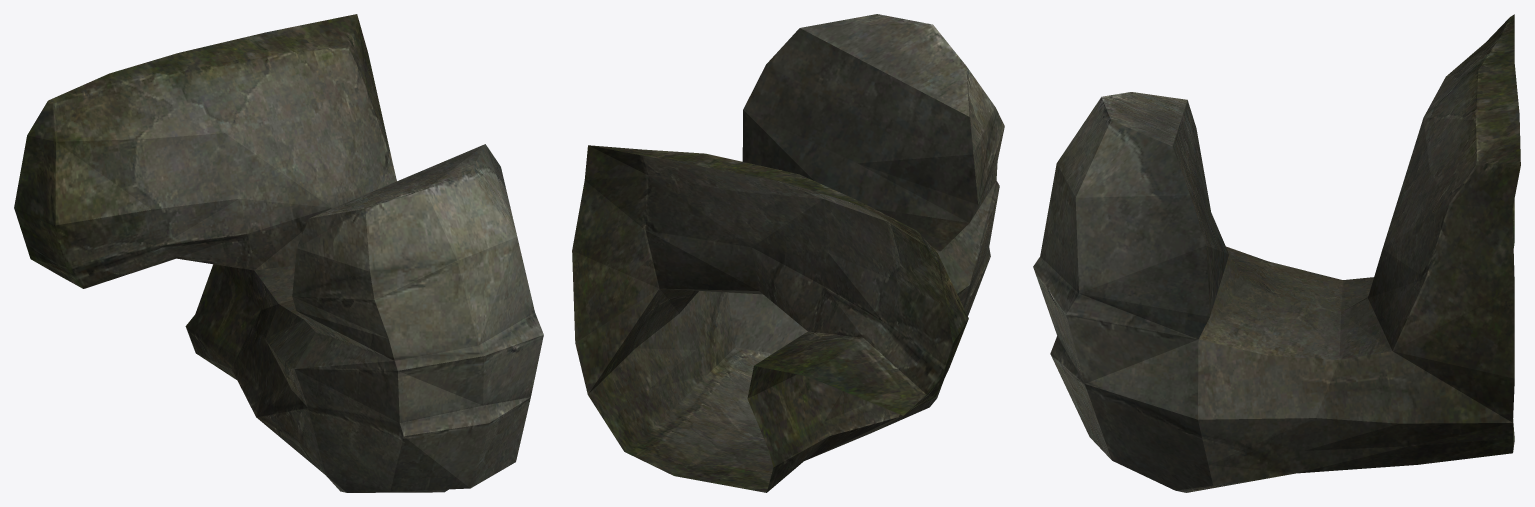
File: dongfang_yewai_358_shizhu01a.obj
3 renders of one model, left to right at view 1: azimuth 30°, elevation 25°; view 2: azimuth 150°, elevation 25°; view 3: azimuth 270°, elevation 25°, orthographic. The views are drawn at different scales.
Parts seen in each view (by area): view 1: dongfang_yewai_358_shizhu01a; view 2: dongfang_yewai_358_shizhu01a; view 3: dongfang_yewai_358_shizhu01a.
Part boxes in pixels (x1,y1,x2,y2): dongfang_yewai_358_shizhu01a: [14, 14, 543, 492]; dongfang_yewai_358_shizhu01a: [572, 14, 1004, 492]; dongfang_yewai_358_shizhu01a: [1033, 14, 1520, 492].
Size of the model in its own units: 261 by 228 by 283.
Materials: 1 (1 with a texture image).
